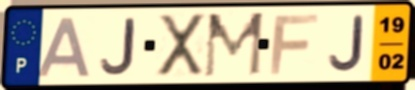A: (35, 15, 95, 79)
F: (267, 12, 322, 76)
J: (98, 16, 136, 76), (327, 14, 365, 74)
M: (201, 10, 266, 80)
X: (156, 11, 206, 79)
